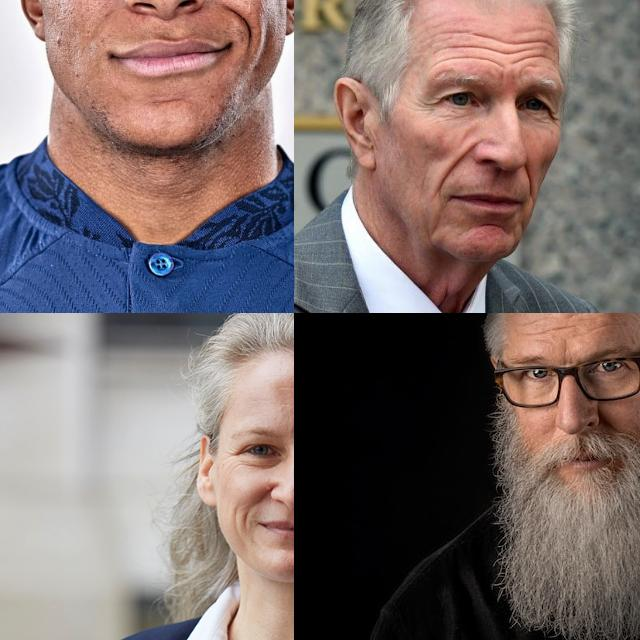chin: (150, 95, 188, 114), (479, 216, 507, 234)
crows_feet: (544, 98, 562, 130), (418, 94, 438, 116), (220, 442, 236, 464)
forehead: (526, 316, 580, 342), (434, 29, 476, 62), (481, 28, 511, 70), (516, 35, 552, 67), (589, 319, 621, 335), (278, 395, 294, 412)
frown_line: (560, 348, 574, 367)
gummy_smile: (222, 0, 260, 50), (441, 146, 474, 187), (521, 163, 535, 197), (239, 502, 251, 534)
masseter: (228, 494, 242, 540)
